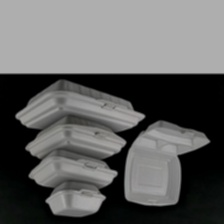foam_box: (120, 117, 215, 212), (10, 76, 147, 138), (20, 112, 130, 162), (27, 146, 120, 194), (41, 177, 108, 221)
